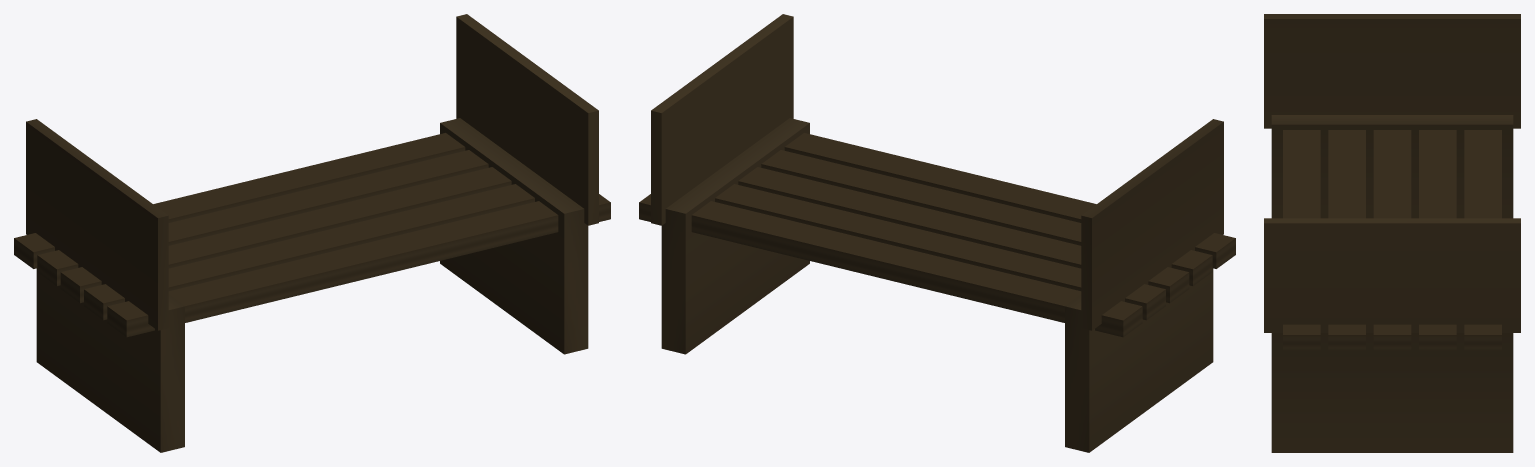
Rendered from env_wooden_platform_a.glb.
3 views of the same model, side by side, from view 1: azimuth 30°, elevation 25°; view 2: azimuth 150°, elevation 25°; view 3: azimuth 270°, elevation 25° (orthographic). The views are drawn at different scales.
Parts seen in each view (by area): view 1: env_wooden_platform_a; view 2: env_wooden_platform_a; view 3: env_wooden_platform_a.
Boxes of the visible parts, x1,y1,x2,y2 form: env_wooden_platform_a: [14, 14, 610, 452]; env_wooden_platform_a: [639, 14, 1235, 452]; env_wooden_platform_a: [1264, 14, 1520, 452].
Bounding box in the file's own units: 3.6 × 1.7 × 1.7.
1 material, 1 textured.
